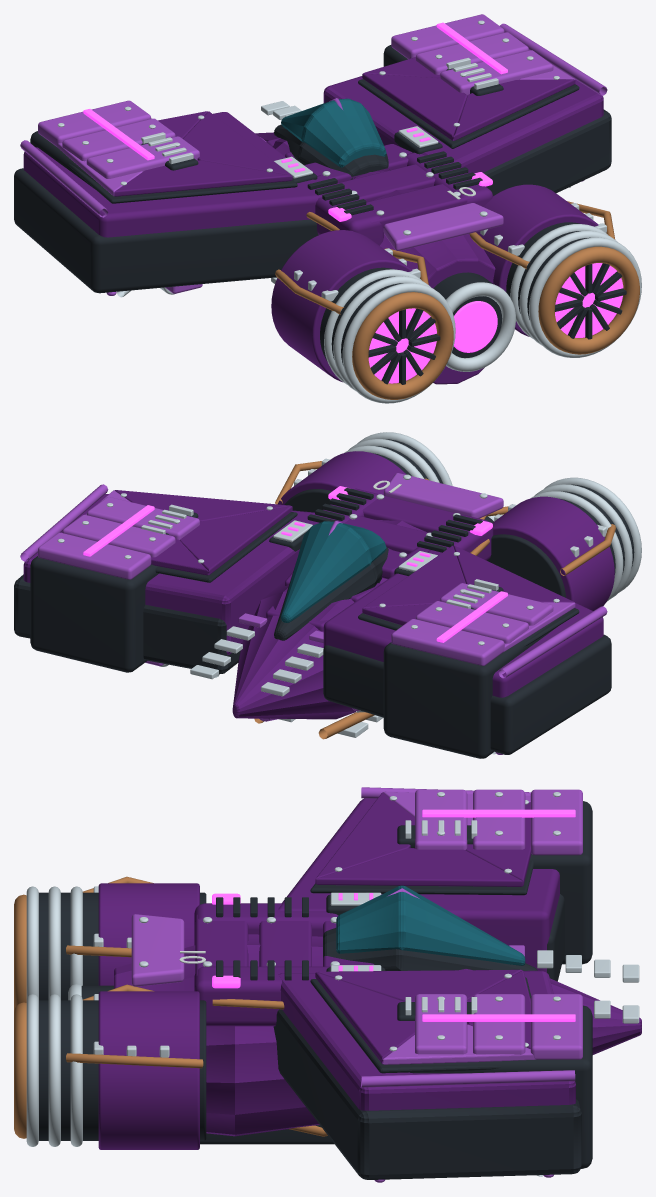
3 views of the same model, one above another, from view 1: azimuth 30°, elevation 25°; view 2: azimuth 150°, elevation 25°; view 3: azimuth 270°, elevation 25° (orthographic). The views are drawn at different scales.
Parts seen in each view (by area): view 1: SolidHull_10; view 2: SolidHull_10; view 3: SolidHull_10.
Boxes of the visible parts, x1,y1,x2,y2 form: SolidHull_10: [14, 14, 641, 403]; SolidHull_10: [14, 432, 641, 758]; SolidHull_10: [14, 787, 641, 1182].
Bounding box in the file's own units: 3.23 × 1.21 × 2.86.
